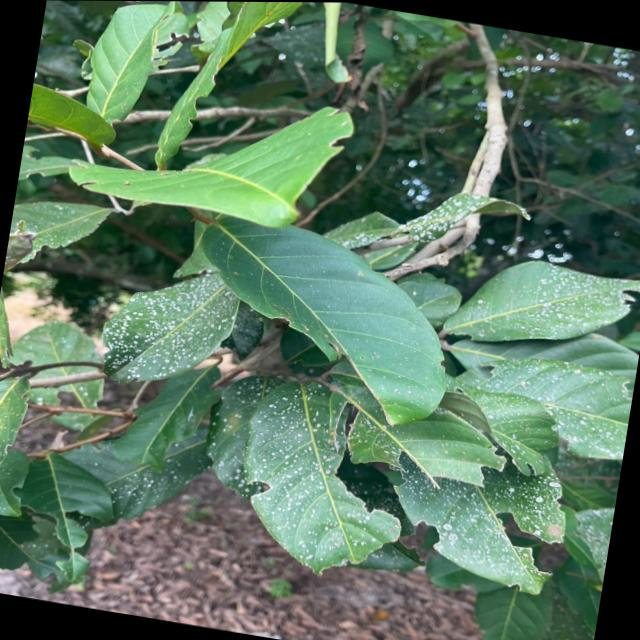Algal Leaf Spot: (474, 251, 640, 475), (204, 378, 389, 576), (398, 456, 586, 590), (348, 182, 508, 277), (95, 282, 221, 389)
